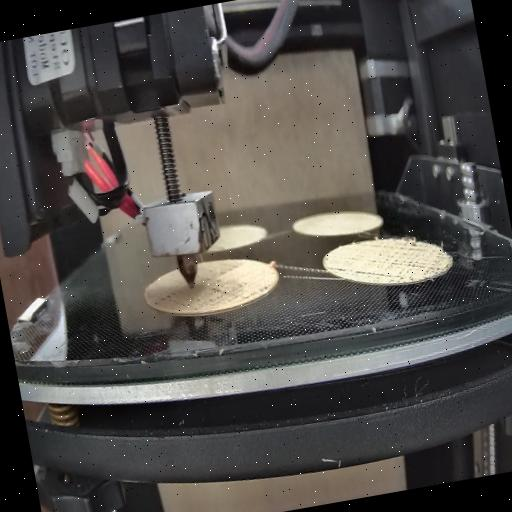under_extrusion: (146, 270, 268, 322), (352, 234, 448, 290), (200, 257, 244, 279), (324, 258, 352, 279)
